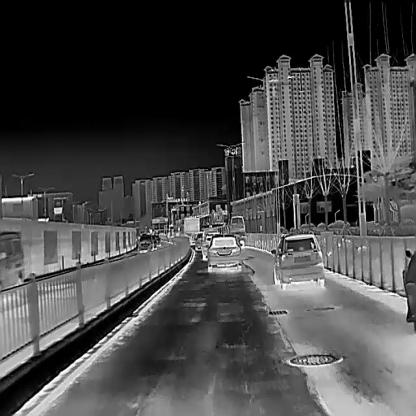bus: (173, 216, 199, 235)
car: (270, 232, 324, 288), (0, 231, 23, 301), (207, 232, 241, 273), (203, 230, 219, 260), (229, 215, 245, 233), (138, 234, 154, 250), (194, 232, 201, 250), (154, 234, 160, 247)
